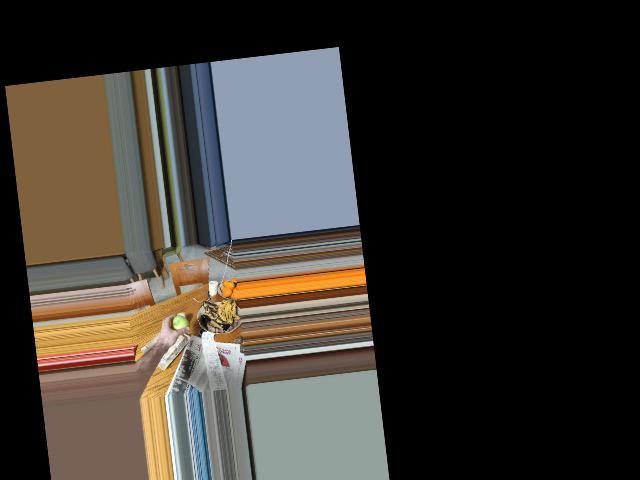apple: (165, 312, 189, 334)
